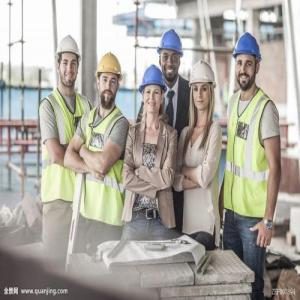blue: (233, 30, 264, 93), (157, 28, 185, 84), (140, 66, 167, 119)
white: (55, 34, 83, 94), (188, 61, 217, 118)
yellow: (95, 51, 124, 111)
